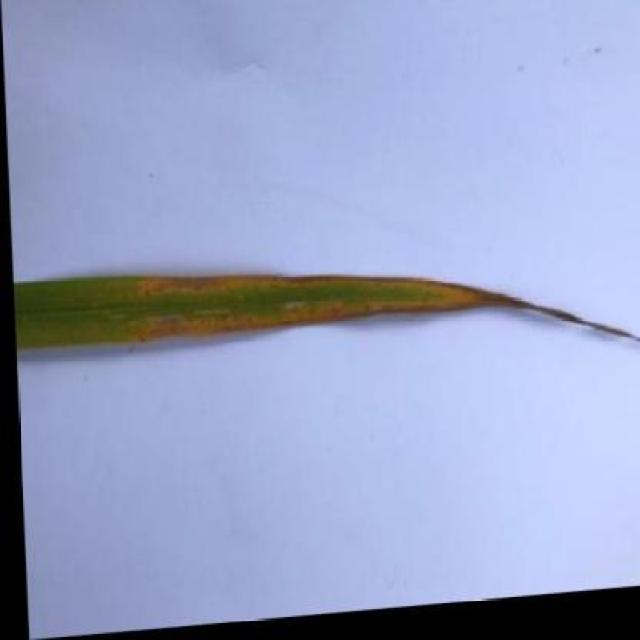Rice False Smut: (11, 278, 640, 356)
